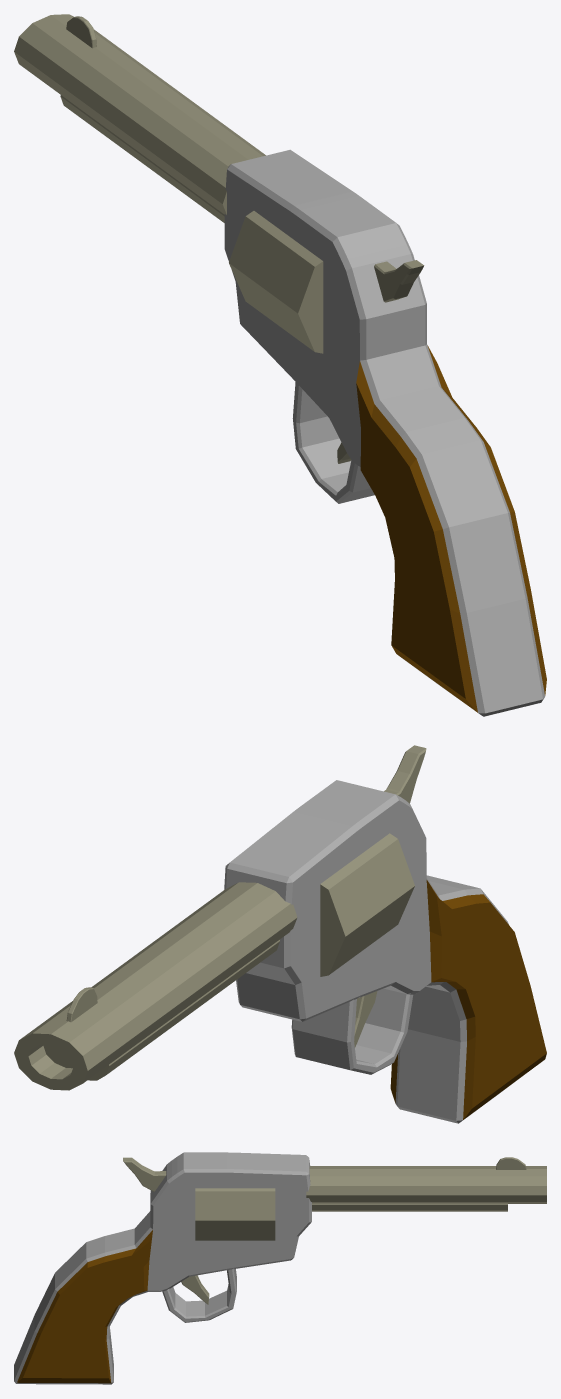
File: wild_west_gun#0000.fbx
3 views of the same model, one above another, from view 1: azimuth 30°, elevation 25°; view 2: azimuth 150°, elevation 25°; view 3: azimuth 270°, elevation 25° (orthographic). The views are drawn at different scales.
Parts seen in each view (by area): view 1: Wild West Gun; view 2: Wild West Gun; view 3: Wild West Gun.
Part boxes in pixels (x1=…): Wild West Gun: x1=14, y1=14, x2=546, y2=716; Wild West Gun: x1=14, y1=745, x2=546, y2=1123; Wild West Gun: x1=14, y1=1152, x2=546, y2=1384.
Bounding box in the file's own units: 240 × 754 × 1668.
